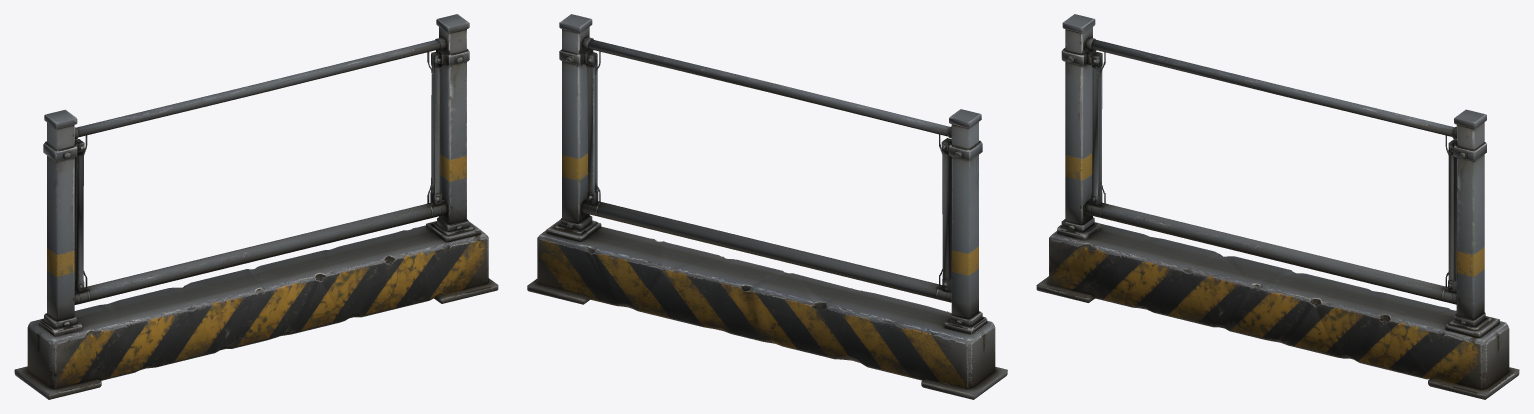
Rendered from selected.fbx.
3 views of the same model, side by side, from view 1: azimuth 30°, elevation 25°; view 2: azimuth 150°, elevation 25°; view 3: azimuth 330°, elevation 25° (orthographic).
Visible parts, largest first — view 1: tripo_node_4228a844-cfab-4e01-92dc-8ee6c329acb1; view 2: tripo_node_4228a844-cfab-4e01-92dc-8ee6c329acb1; view 3: tripo_node_4228a844-cfab-4e01-92dc-8ee6c329acb1.
Boxes of the visible parts, left/top/right/bottom form: tripo_node_4228a844-cfab-4e01-92dc-8ee6c329acb1: left=14, top=14, right=498, bottom=399; tripo_node_4228a844-cfab-4e01-92dc-8ee6c329acb1: left=527, top=14, right=1007, bottom=399; tripo_node_4228a844-cfab-4e01-92dc-8ee6c329acb1: left=1036, top=14, right=1519, bottom=399.
Size of the model in its own units: 99.8 by 56.45 by 13.48.
1 material, 1 textured.
